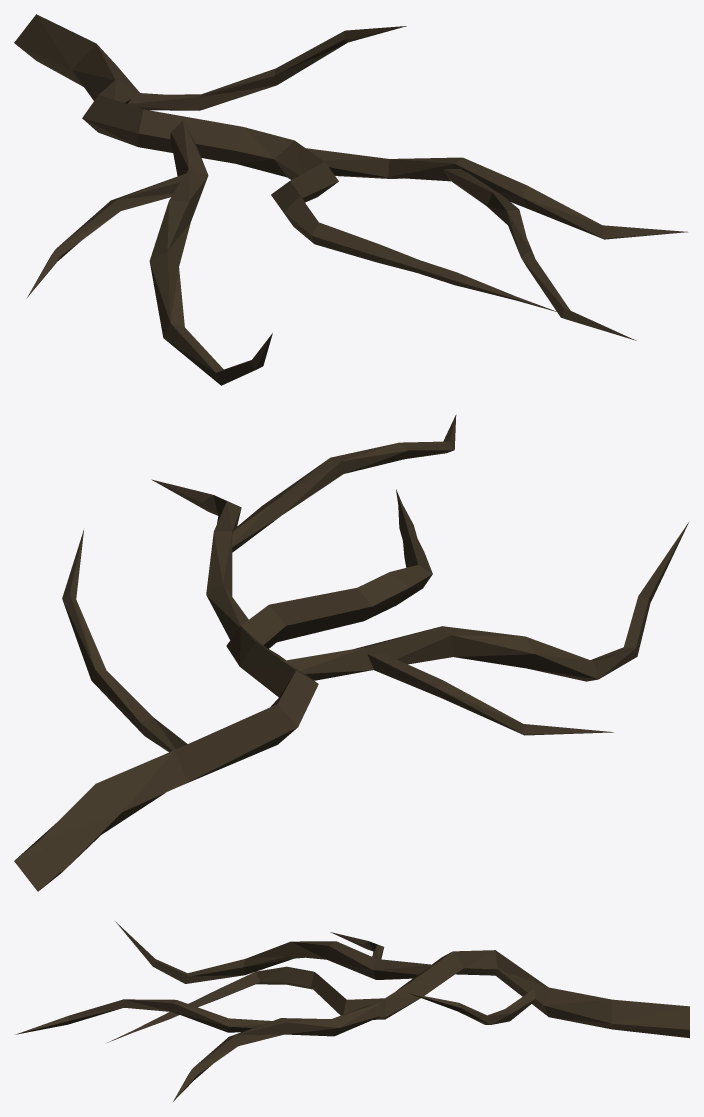
Rendered from Root_Small_2.fbx.
3 views of the same model, one above another, from view 1: azimuth 30°, elevation 25°; view 2: azimuth 150°, elevation 25°; view 3: azimuth 270°, elevation 25° (orthographic). The views are drawn at different scales.
Visible parts, largest first — view 1: polySurface1254; view 2: polySurface1254; view 3: polySurface1254.
Boxes of the visible parts, <box> form: polySurface1254: <box>14,14,687,385</box>; polySurface1254: <box>14,414,689,891</box>; polySurface1254: <box>15,921,689,1101</box>.
Size of the model in its own units: 4.35 by 1.17 by 6.8.
